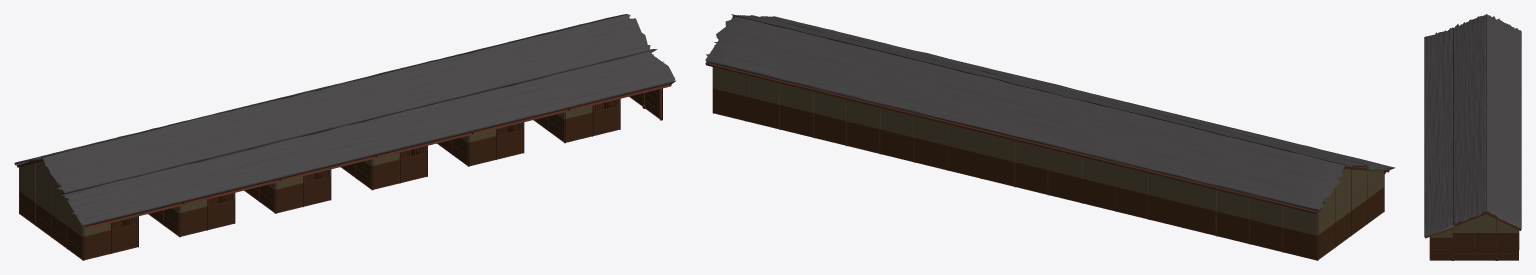
Rendered from ashigaru.glb.
The picture shows the model from 3 angles, left to right: view 1: azimuth 30°, elevation 25°; view 2: azimuth 150°, elevation 25°; view 3: azimuth 270°, elevation 25°; orthographic projection. The views are drawn at different scales.
Parts seen in each view (by area): view 1: 立方体.002, 立方体.037, 立方体.013, 立方体.001; view 2: 立方体.002, 立方体.037, 立方体.001, 立方体.013; view 3: 立方体.002, 立方体.037, 立方体.001, 立方体.013.
Boxes of the visible parts, x1,y1,x2,y2 form: 立方体.002: [14, 14, 676, 226]; 立方体.037: [19, 89, 659, 259]; 立方体.013: [17, 84, 671, 260]; 立方体.001: [19, 99, 619, 236]; 立方体.002: [705, 14, 1395, 212]; 立方体.037: [713, 88, 1383, 259]; 立方体.001: [713, 67, 1383, 235]; 立方体.013: [705, 19, 1389, 260]; 立方体.002: [1424, 14, 1521, 237]; 立方体.037: [1431, 233, 1518, 259]; 立方体.001: [1431, 214, 1518, 247]; 立方体.013: [1424, 212, 1521, 260].
Bounding box in the file's own units: 173 × 20.88 × 35.29.
